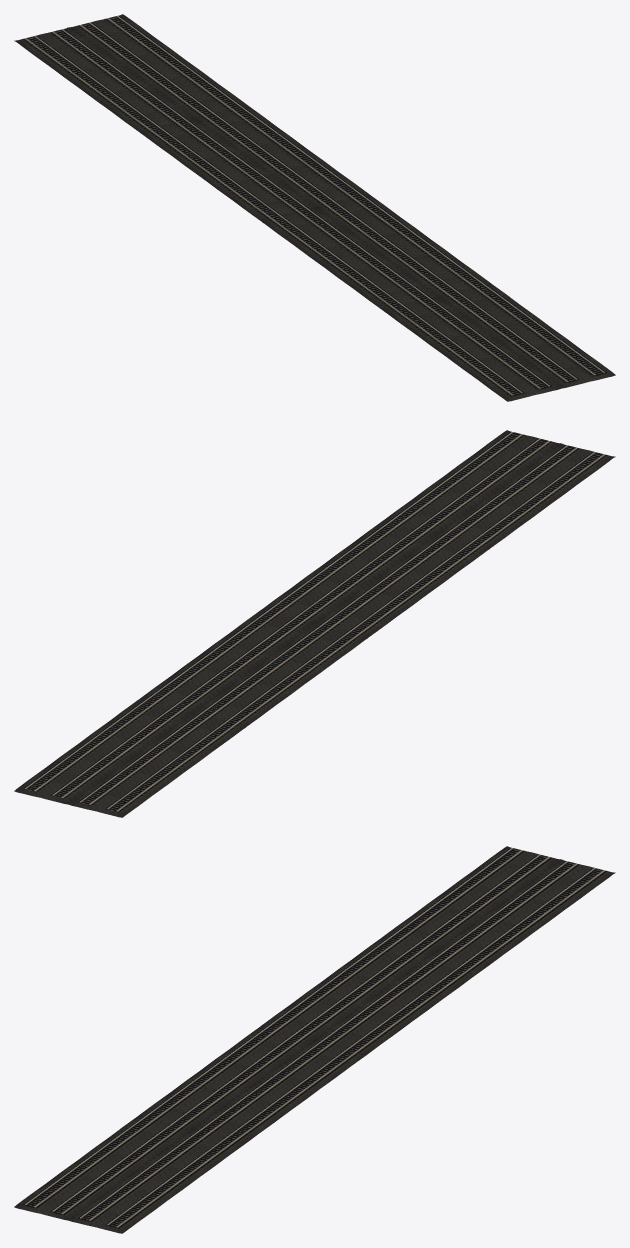
Rendered from KH_4RAIL_400.glb.
The picture shows the model from 3 angles, top to bottom: view 1: azimuth 30°, elevation 25°; view 2: azimuth 150°, elevation 25°; view 3: azimuth 330°, elevation 25°; orthographic projection.
Parts seen in each view (by area): view 1: Jari_All, R000_RG_R, R000_RG_L; view 2: Jari_All, R000_RG_R, R000_RG_L; view 3: Jari_All, R000_RG_L, R000_RG_R.
Boxes of the visible parts, box(x1,y1,x2,y2) form: Jari_All: box(14, 14, 615, 401); R000_RG_R: box(25, 18, 595, 395); R000_RG_L: box(34, 16, 603, 392); Jari_All: box(14, 430, 615, 817); R000_RG_R: box(34, 434, 604, 811); R000_RG_L: box(26, 432, 595, 809); Jari_All: box(14, 846, 615, 1233); R000_RG_L: box(34, 850, 604, 1227); R000_RG_R: box(26, 848, 595, 1224).
Size of the model in its own units: 51.52 by 2.22 by 405.
6 materials, 5 textured.
